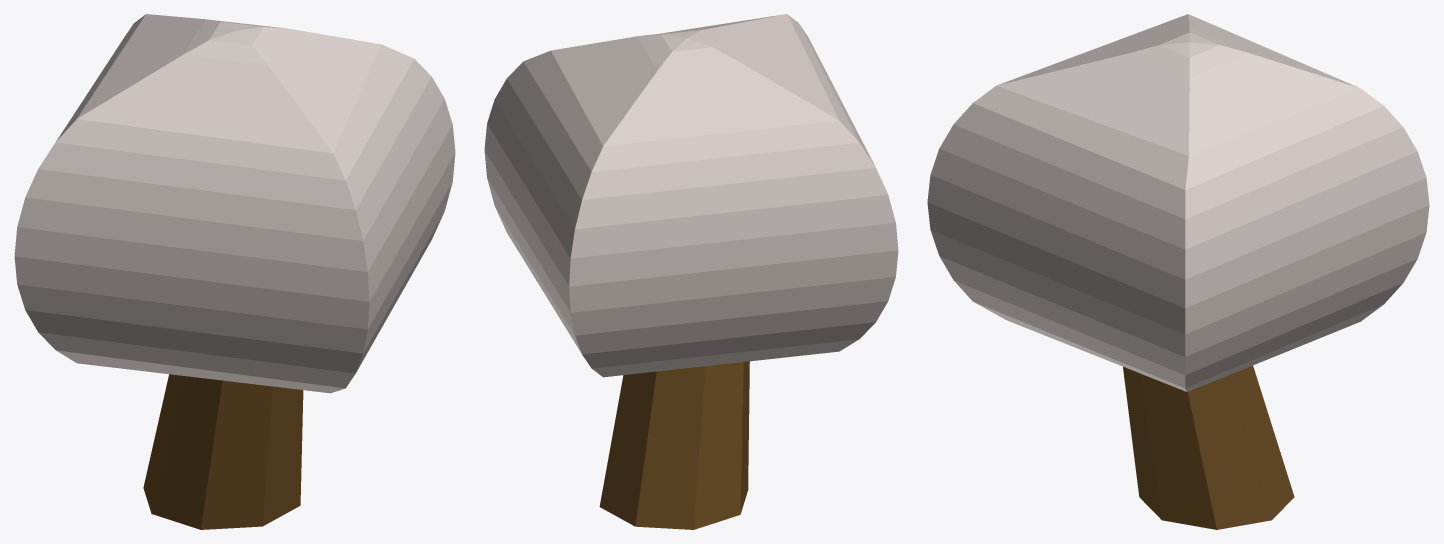
3 renders of one model, left to right at view 1: azimuth 30°, elevation 25°; view 2: azimuth 150°, elevation 25°; view 3: azimuth 270°, elevation 25°, orthographic. The views are drawn at different scales.
Visible parts, largest first — view 1: Cylinder.001, Cylinder; view 2: Cylinder.001, Cylinder; view 3: Cylinder.001, Cylinder.
Boxes of the visible parts, box(x1,y1,x2,y2) form: Cylinder.001: box(14, 14, 455, 393); Cylinder: box(143, 374, 303, 529); Cylinder.001: box(484, 14, 898, 377); Cylinder: box(599, 361, 749, 529); Cylinder.001: box(927, 14, 1429, 391); Cylinder: box(1123, 365, 1294, 529).
Bounding box in the file's own units: 624 × 646 × 646.
